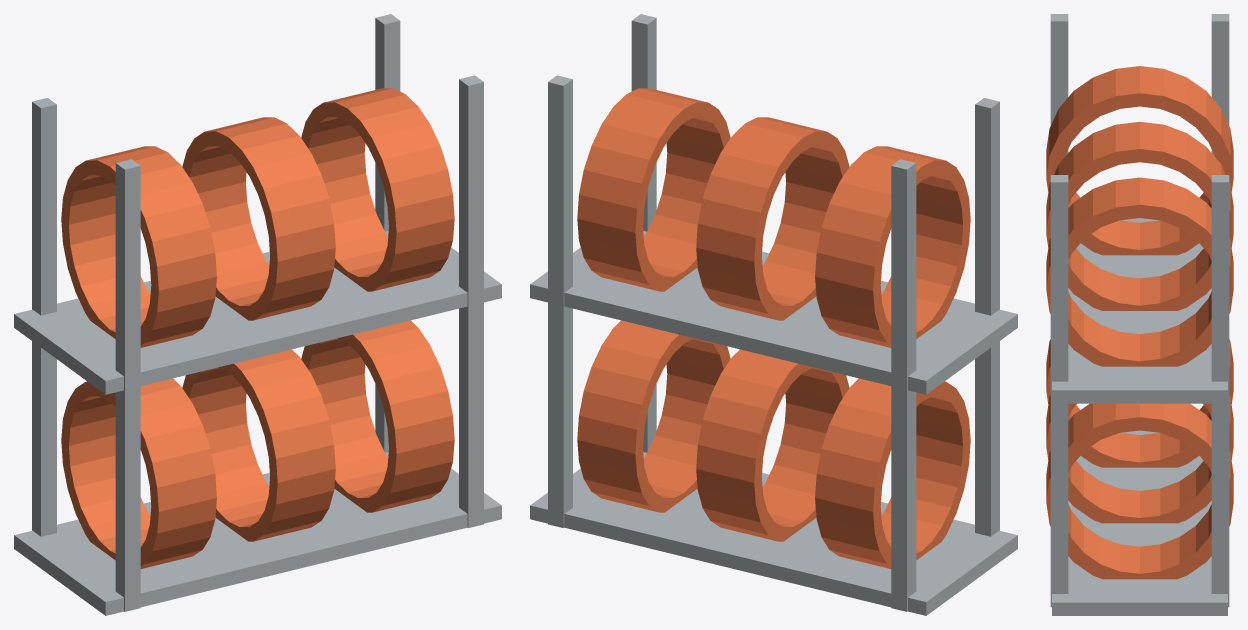
Rendered from six-tyre-warmer-rack.glb.
The picture shows the model from 3 angles, left to right: view 1: azimuth 30°, elevation 25°; view 2: azimuth 150°, elevation 25°; view 3: azimuth 270°, elevation 25°; orthographic projection. The views are drawn at different scales.
Visible parts, largest first — view 1: tyre-warmer-rack; view 2: tyre-warmer-rack; view 3: tyre-warmer-rack.
Part boxes in pixels (x1,y1,x2,y2): tyre-warmer-rack: (14, 14, 501, 615); tyre-warmer-rack: (530, 14, 1017, 615); tyre-warmer-rack: (1046, 14, 1233, 615).
Size of the model in its own units: 1.5 by 1.6 by 0.6399.
